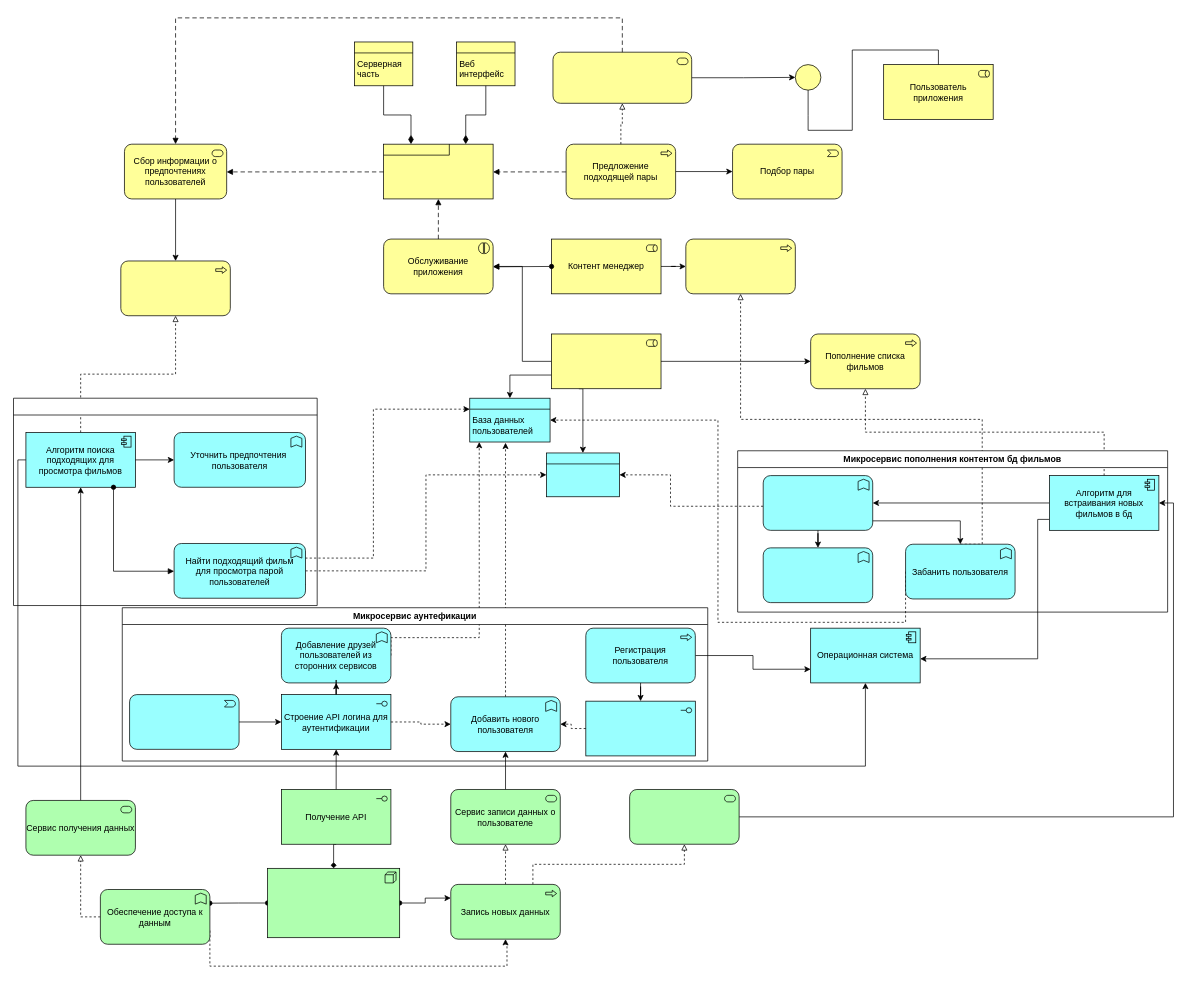
This 1192x985 diagram has some shape labels left out. Here are the shapes that lost their labels. From the top down, the centre of each, then its label:
At (x=622, y=77): "Сервис для просмотра кино".
At (x=808, y=90): "веб-клиент приложения".
At (x=438, y=171): "Сайт Cinematch".
At (x=740, y=266): "Модерация профилей пользователей".
At (x=175, y=288): "Обработка предпочтений пользователей".
At (x=606, y=361): "Модератор приложения".
At (x=582, y=474): "База данных фильмов".
At (x=165, y=501): "Микросервис поиска фильмов".
At (x=817, y=502): "Добавить фильм".
At (x=817, y=575): "Обновить данные о фильме".
At (x=184, y=721): "Аутентификация пользователя".
At (x=640, y=728): "Форма регистрации".
At (x=684, y=816): "Сервис записи данных о фильме".
At (x=333, y=903): "Сервер приложения".
